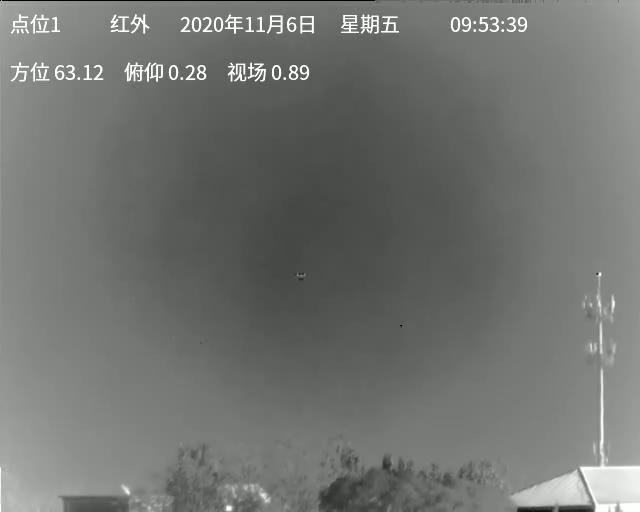uav: (294, 272, 308, 282)
